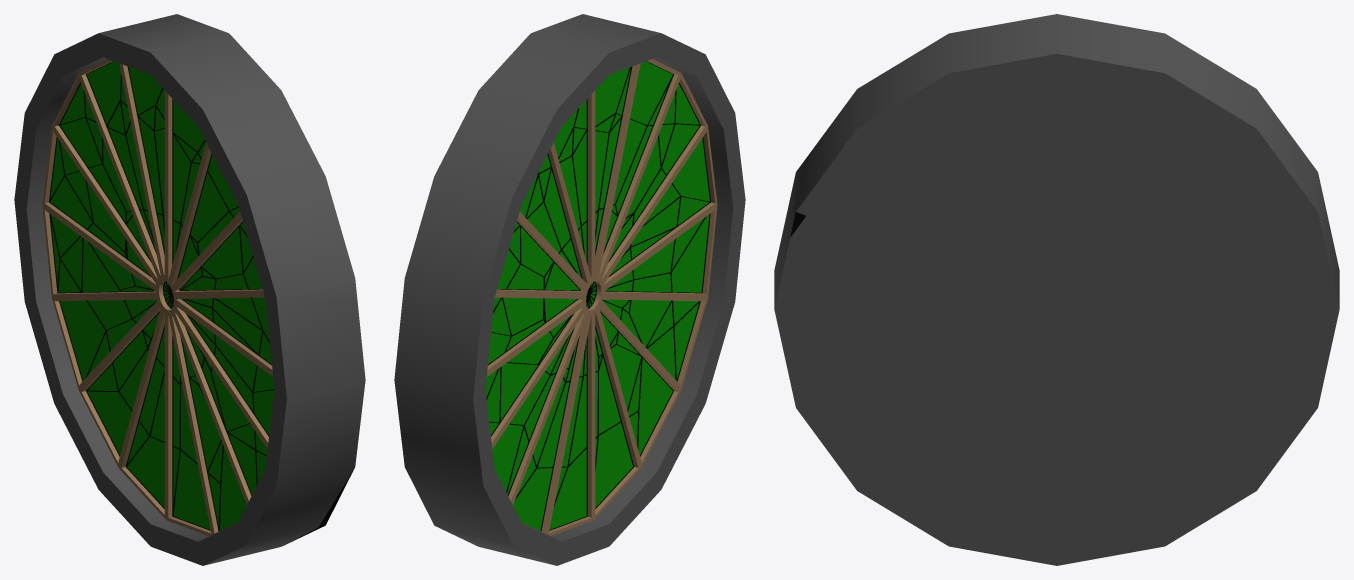
The model's file is Okno z witrażem.fbx.
3 views of the same model, side by side, from view 1: azimuth 30°, elevation 25°; view 2: azimuth 150°, elevation 25°; view 3: azimuth 270°, elevation 25° (orthographic). The views are drawn at different scales.
Visible parts, largest first — view 1: Rozeta; view 2: Rozeta; view 3: Rozeta.
Part boxes in pixels (<box>): Rozeta: <box>14,14,365,565</box>; Rozeta: <box>394,14,745,565</box>; Rozeta: <box>774,14,1339,565</box>.
Size of the model in its own units: 50 by 300 by 300.
